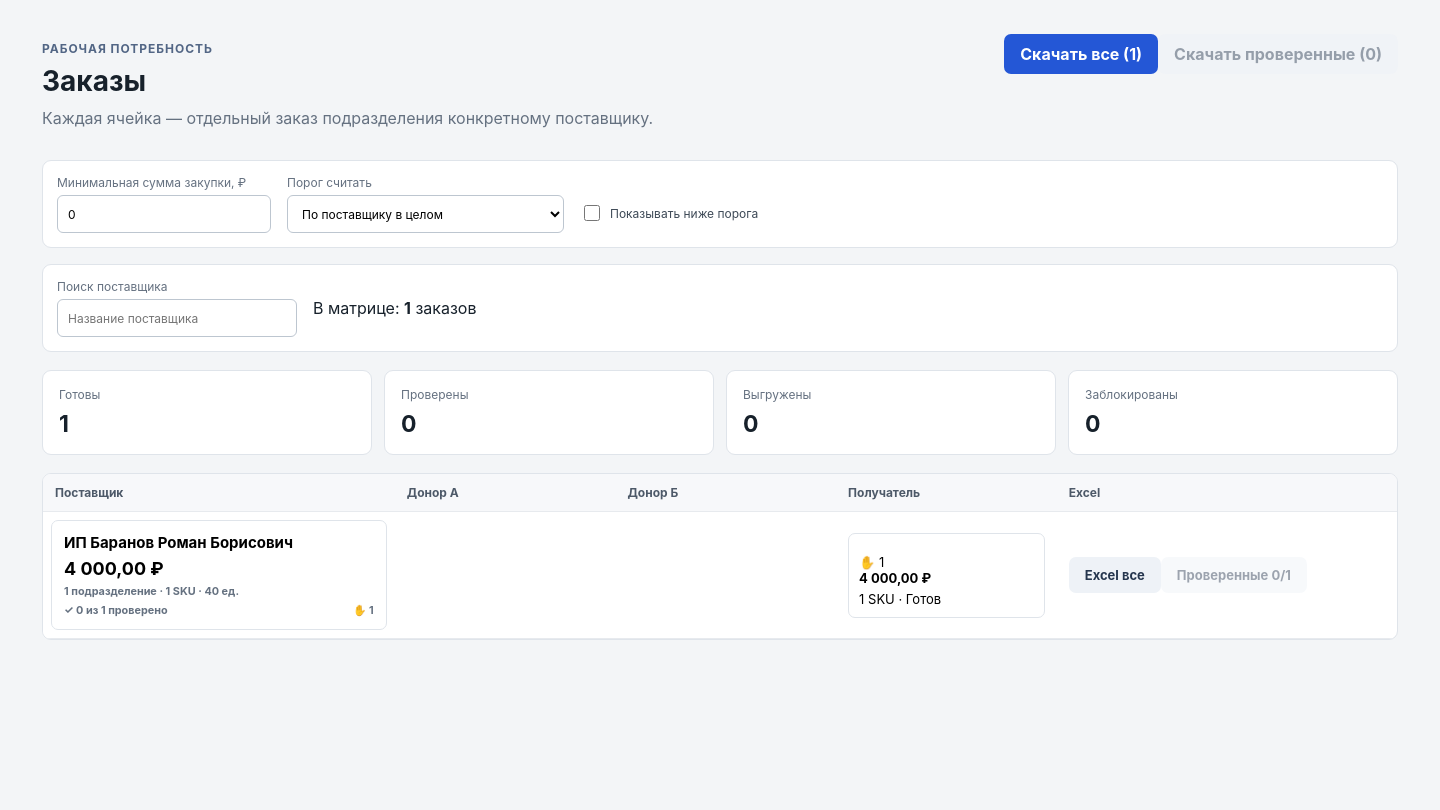
Test: explains a manual quantity in both order views using the same accepted basis
The width and height of the screenshot is (1440, 810).
Click the button "✋ 1 4 000,00 ₽ 1 SKU · Готов" at (946, 575), box [848,532,1045,618]
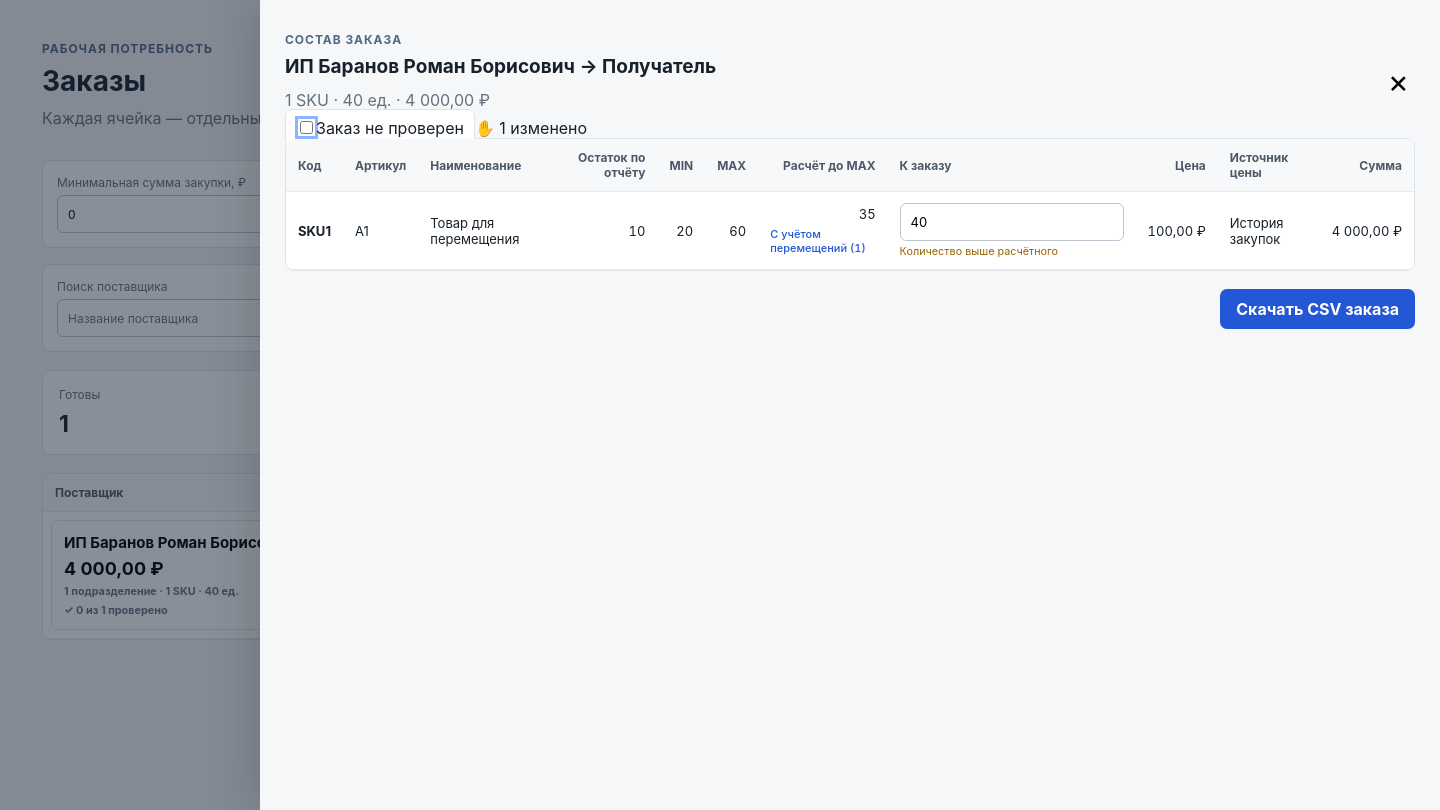
Click the button with aria-label "Учтённые перемещения" at (823, 238), box [770,222,876,255]
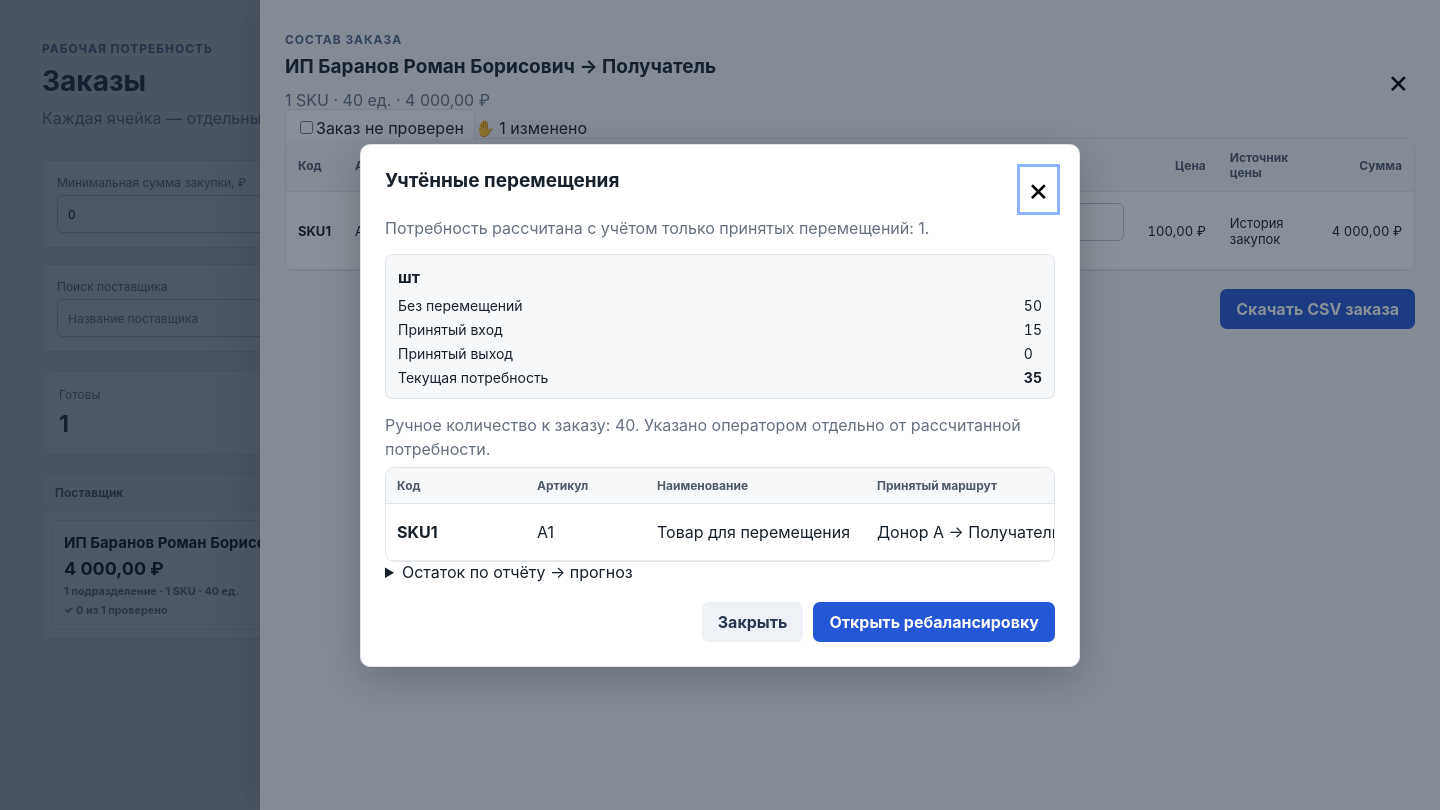
Expected: the dialog "Учтённые перемещения" shows "Ручное количество к заказу: 40", [360,144,1080,666]
Press Escape
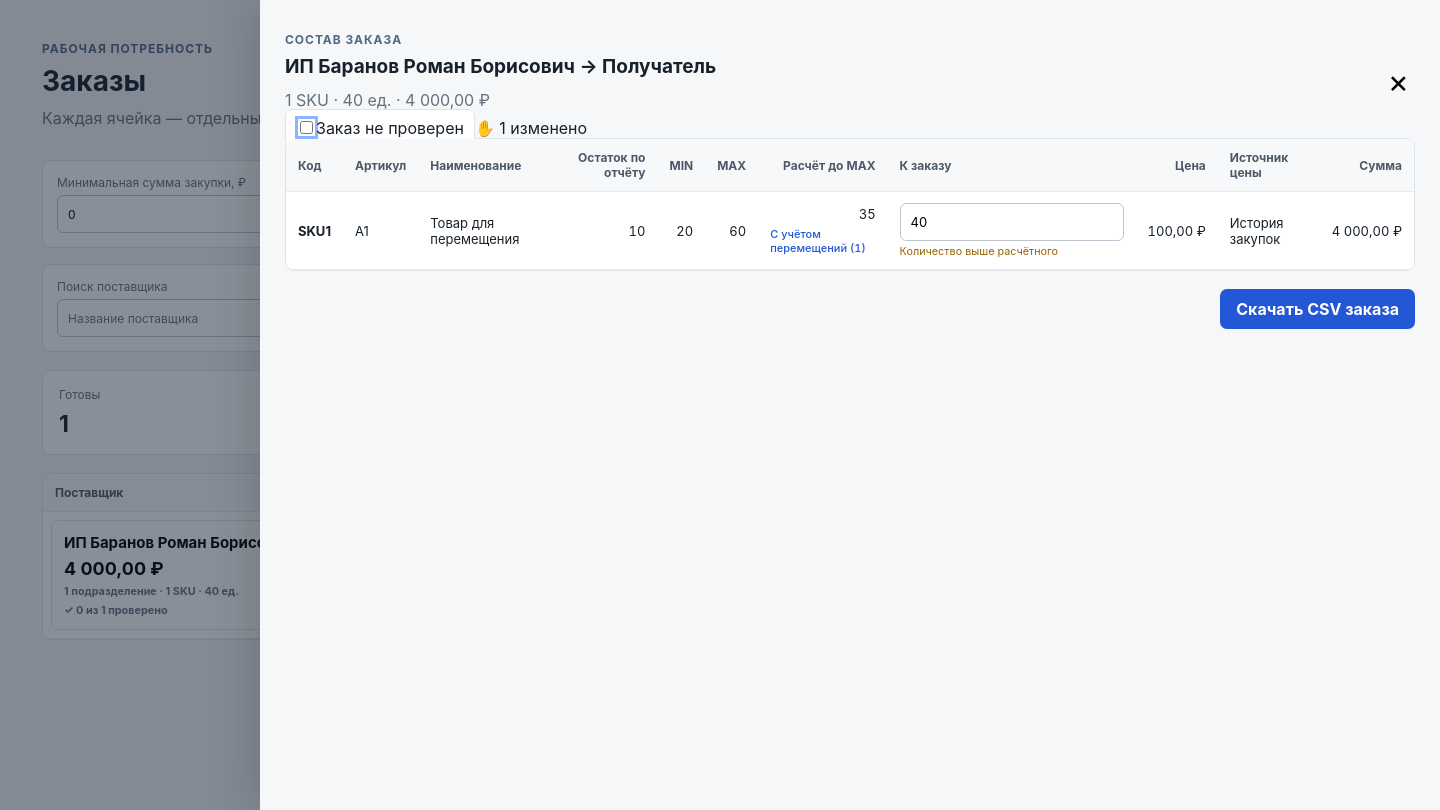
Click the button named "Закрыть" at (1398, 82), box [1382,25,1415,138]
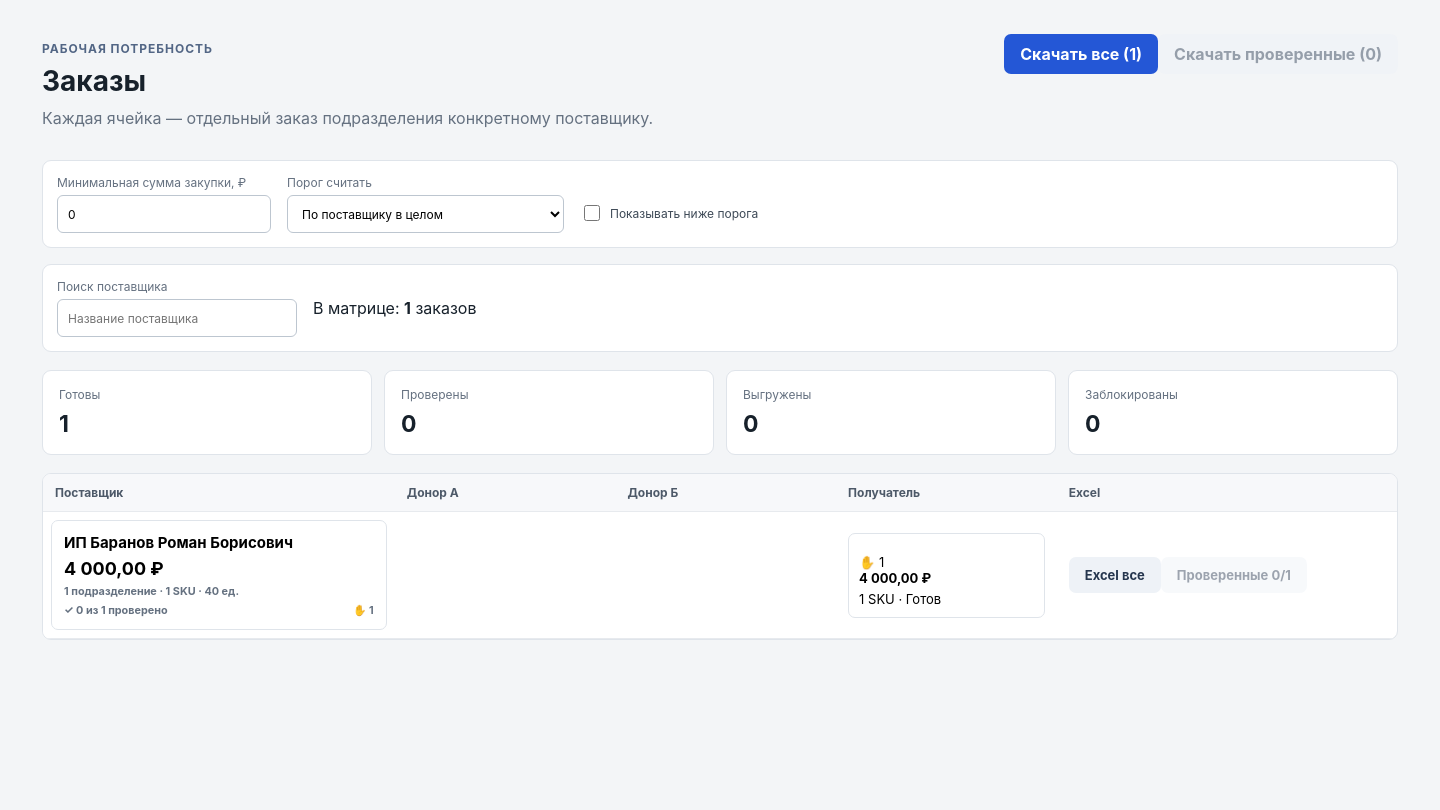
Click the button with aria-label "Все заказы ИП Баранов" at (178, 542), box [51,520,387,630]
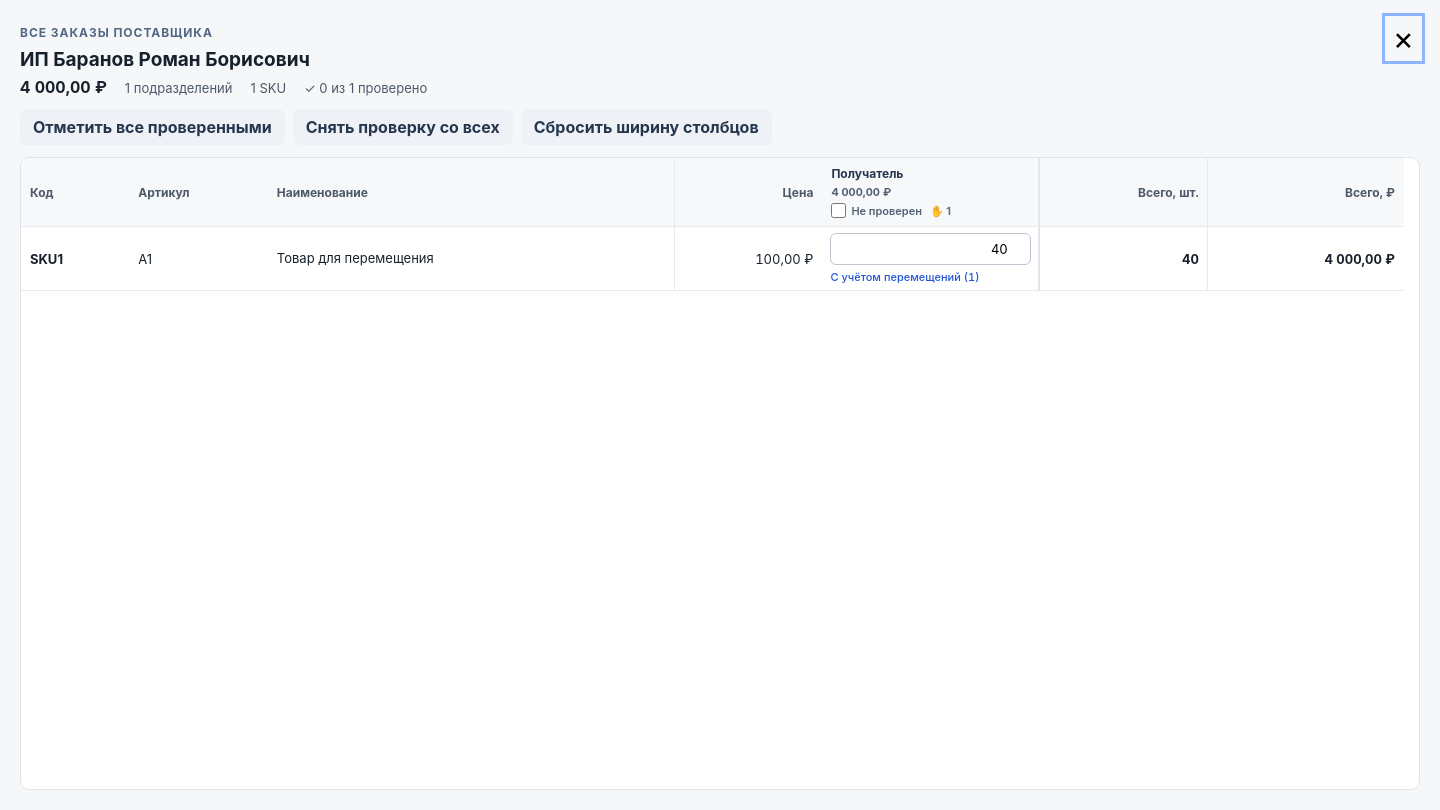
Click the button with aria-label "Учтённые перемещения" at (905, 275), box [830,265,980,284]
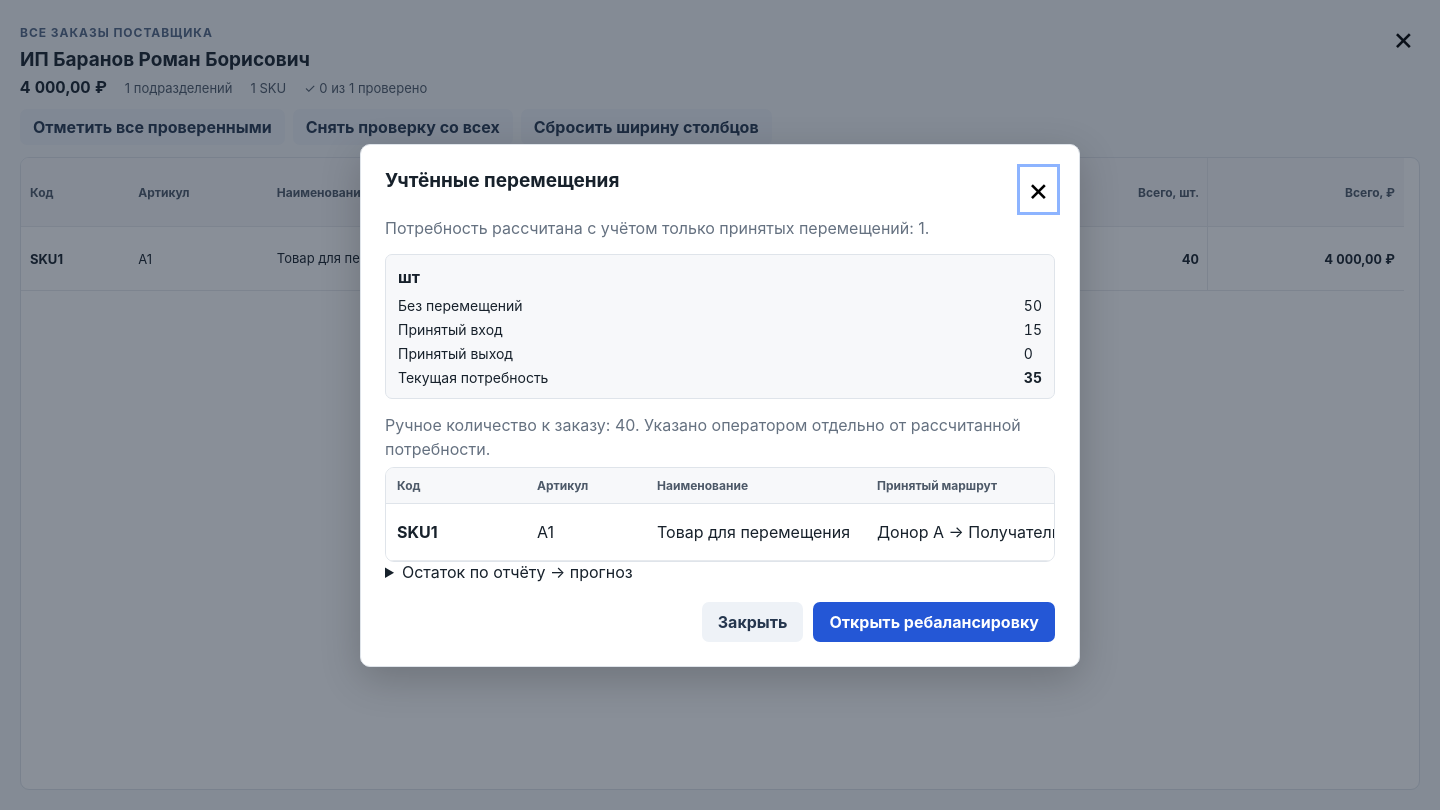
Expected: the dialog "Учтённые перемещения" shows "Ручное количество к заказу: 40", [360,144,1080,666]
